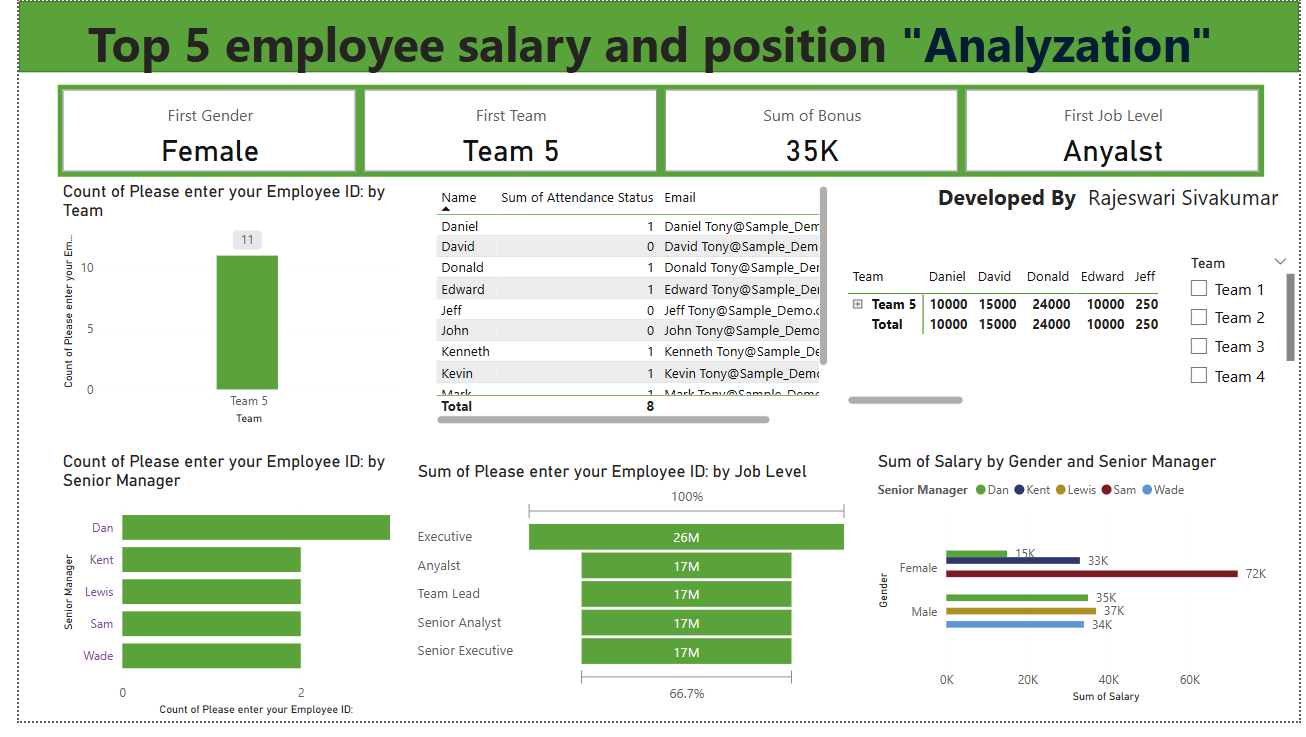

The page's visual inventory and layout, read from the dashboard file:
{"tool":"powerbi","page":{"name":"Page 1","canvas":[1280,720],"ordinal":0},"visuals":[{"type":"columnChart","fields":{"Category":["Data.Team"],"Y":["Data.Please enter your Employee ID:"]},"box":[38.6,180,341.4,248.6],"z":0},{"type":"clusteredBarChart","fields":{"Category":["Data.Senior Manager"],"Y":["Data.Please enter your Employee ID:"]},"box":[38.6,450,341.4,270],"z":1000},{"type":"funnel","fields":{"Category":["Data.Job Level"],"Y":["Data.Please enter your Employee ID:"]},"box":[394.3,460,441.4,247.1],"z":2000},{"type":"slicer","fields":{"Values":["Data.Team"]},"box":[1158.6,248.6,121.4,141.4],"z":3000},{"type":"tableEx","fields":{"Values":["Data.Name","Data.Attendance Status","Data.Email"]},"box":[411.4,180,402.9,248.6],"z":4000},{"type":"pivotTable","fields":{"Rows":["Data.Team","Data.Please enter your Dell Email ID:"],"Columns":["Data.Name"],"Values":["Data.Salary"]},"box":[824.3,258.6,320,150],"z":5000},{"type":"clusteredBarChart","fields":{"Category":["Data.Gender"],"Y":["Data.Salary"],"Series":["Data.Senior Manager"]},"box":[854.3,450,408.6,257.1],"z":6000},{"type":"shape","box":[0,0,1280,71.4],"z":7000},{"type":"textbox","box":[64.3,4.3,1215.7,108.6],"z":8000},{"type":"cardVisual","fields":{"Data":["Data.Gender","Data.Team","Data (2).Bonus","Data (2).Job Level"]},"box":[38.6,84.3,1206,92],"z":9000},{"type":"textbox","box":[914.3,175.7,365.7,42.9],"z":10000}]}

Visuals, with their boxes in screenshot pixels (x1, y1, x2, y2), scaled from the page's 1280x720 canvas onto the 1306x737 screenshot:
columnChart - Data.Team x Data.Please enter your Employee ID:: 39:184:388:439
clusteredBarChart - Data.Senior Manager x Data.Please enter your Employee ID:: 39:461:388:736
funnel - Data.Job Level x Data.Please enter your Employee ID:: 402:471:853:724
slicer - Data.Team: 1182:254:1305:399
tableEx - Data.Name x Data.Attendance Status: 420:184:831:439
pivotTable - Data.Team x Data.Please enter your Dell Email ID:: 841:265:1168:418
clusteredBarChart - Data.Gender x Data.Salary: 872:461:1289:724
shape: 0:0:1305:73
textbox: 66:4:1305:116
cardVisual - Data.Gender x Data.Team: 39:86:1270:180
textbox: 933:180:1305:224
